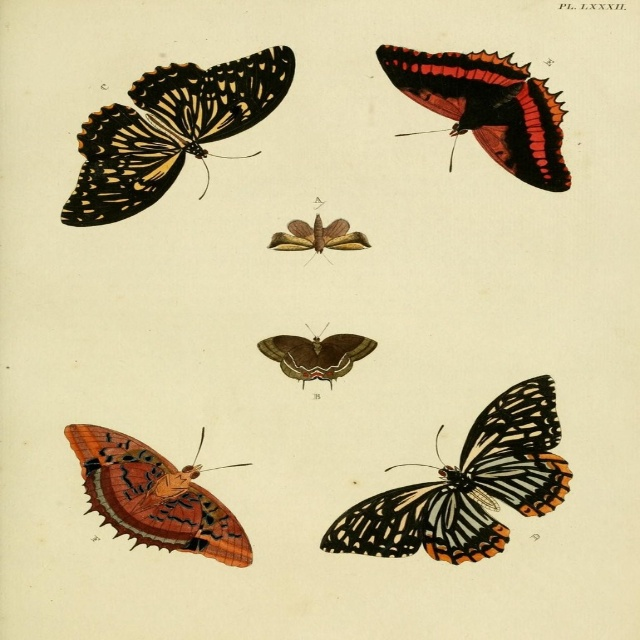Butterfly: (319, 369, 574, 563), (61, 46, 302, 223), (368, 44, 582, 191), (58, 423, 262, 569), (257, 323, 378, 399), (268, 213, 378, 268)
